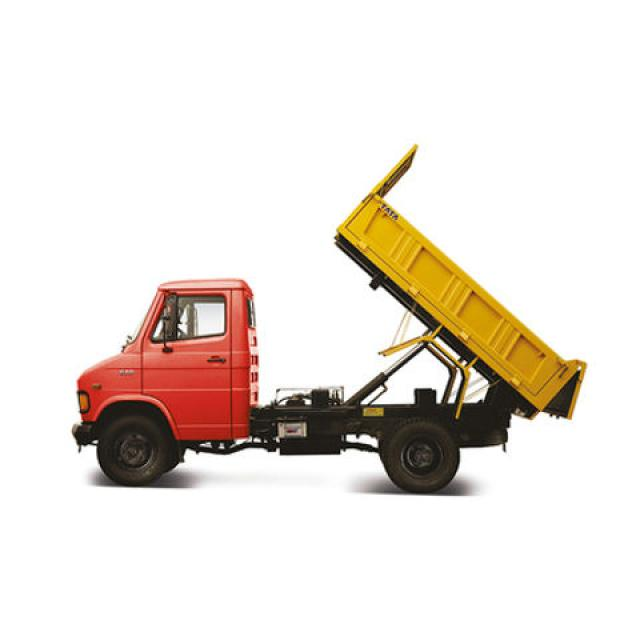dump_truck: (47, 116, 590, 542)
